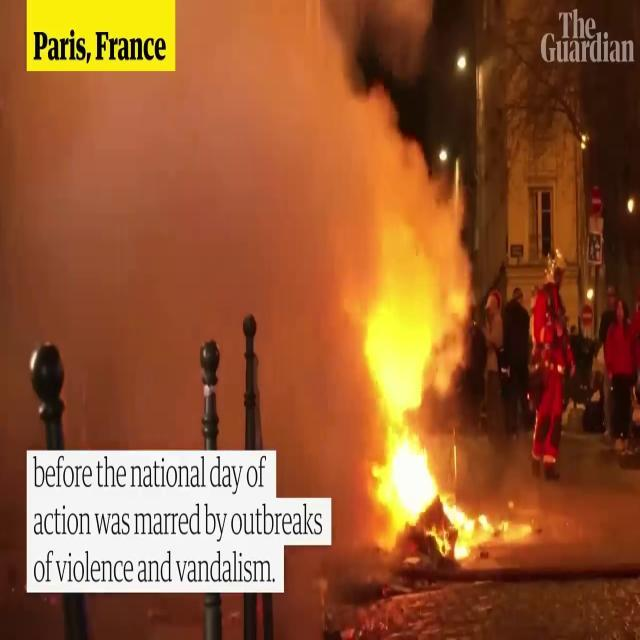Fire: (348, 208, 528, 568)
Smoke: (1, 1, 402, 458)
